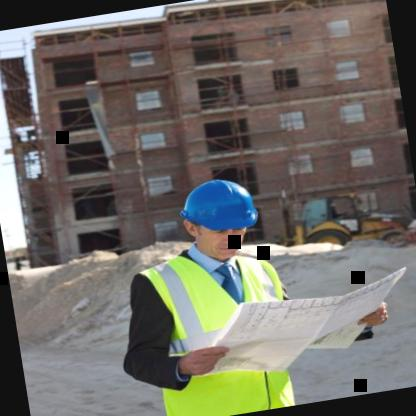helmet: (167, 162, 270, 268)
